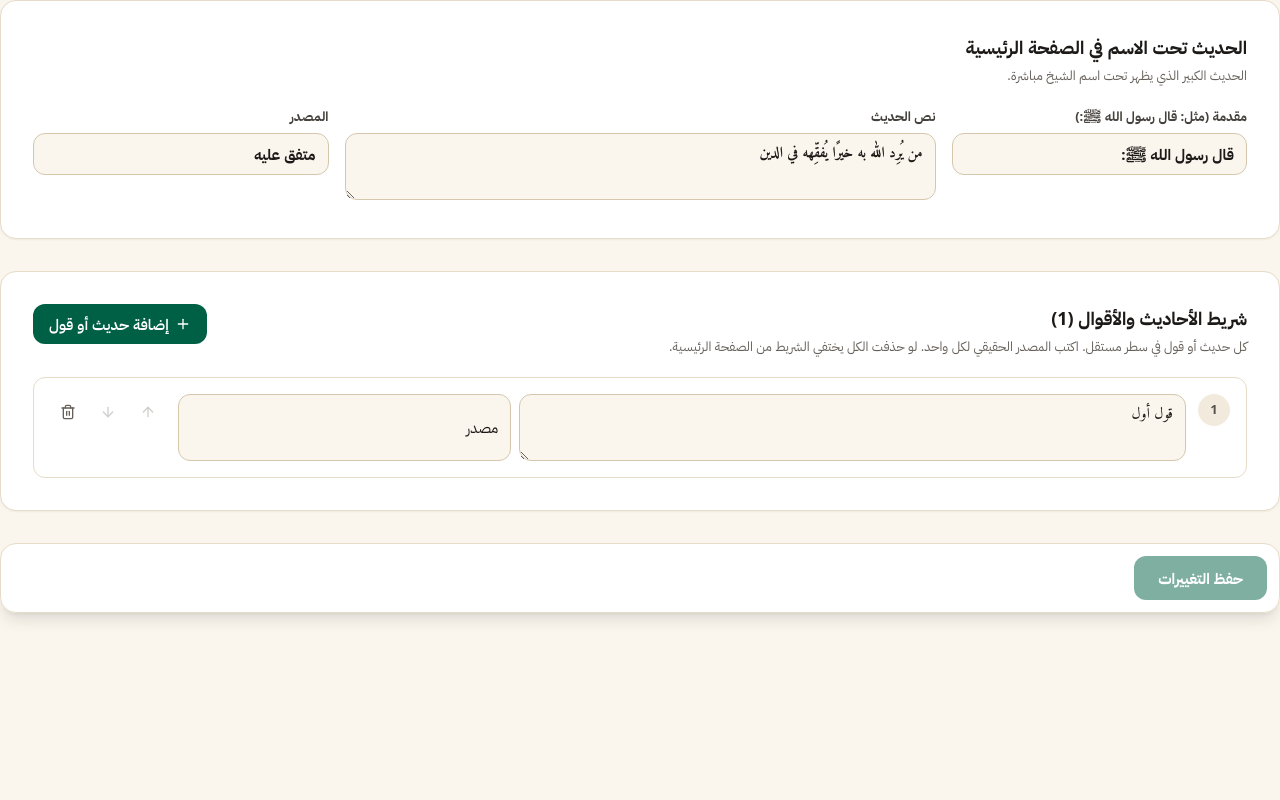
QuotesManager › shows the message when saving is refused
Type "س" into the text box named "نص الحديث 1". click: (853, 427)
box: [519,394,1186,461]
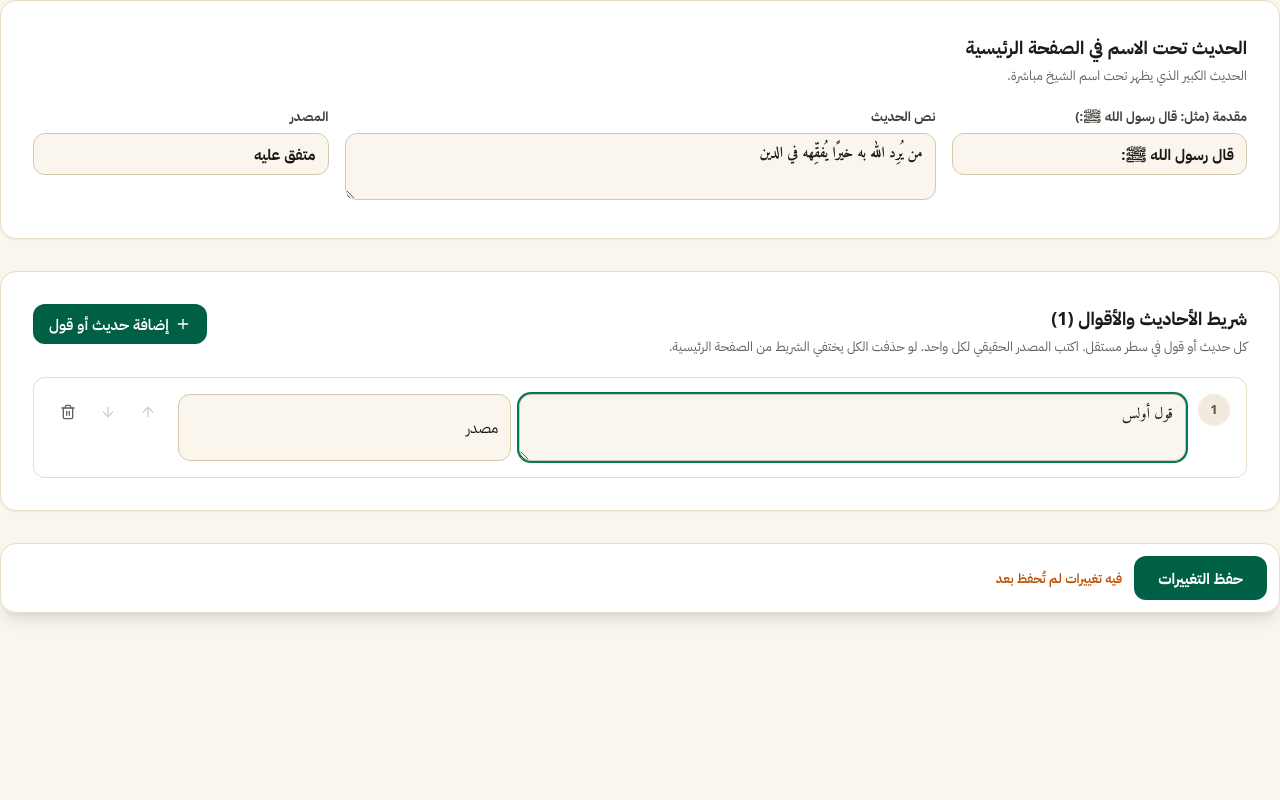
Click the button "حفظ التغييرات". click: click(1201, 578)
box: [1134,556,1267,600]
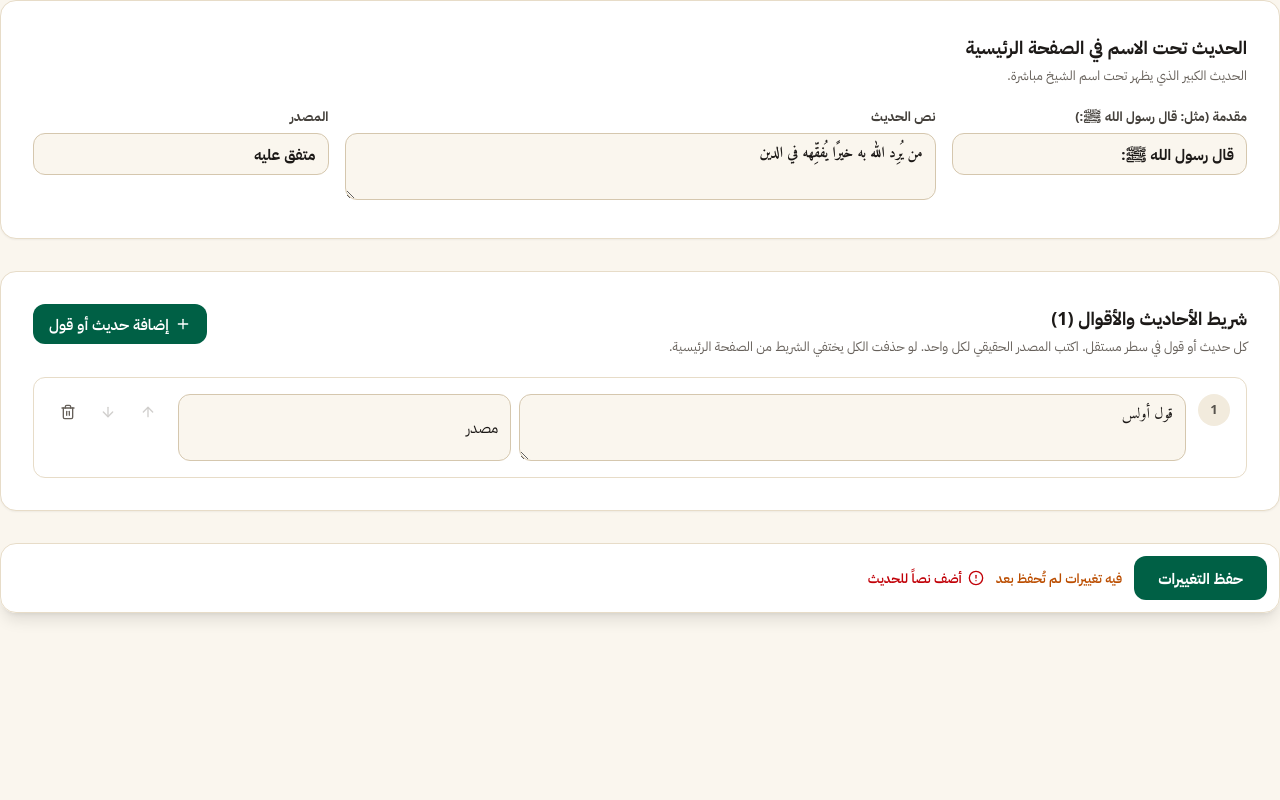
Expected: the message reads "أضف نصاً للحديث", [868,569,962,587]
